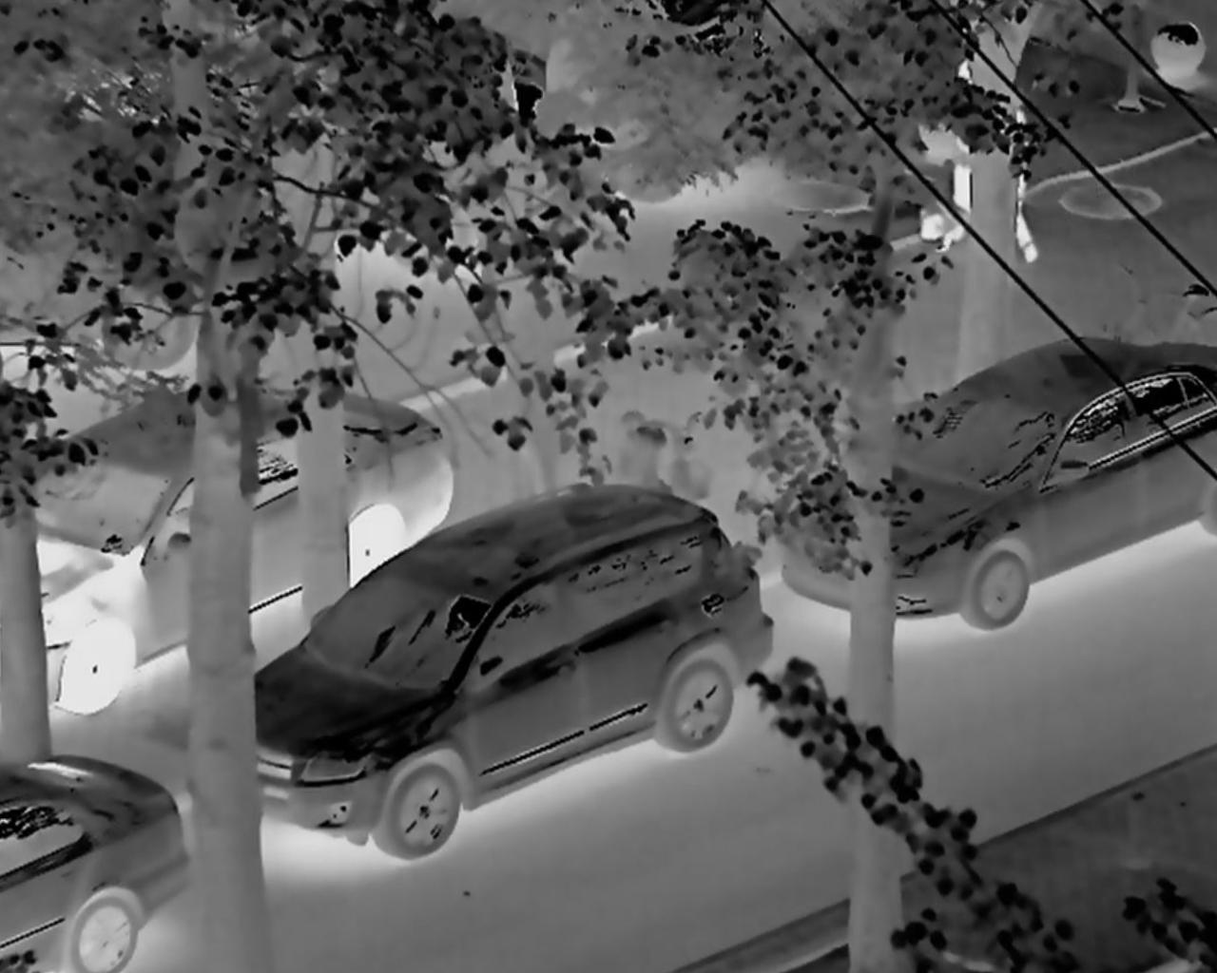person: (534, 223, 632, 450), (451, 219, 528, 444)
